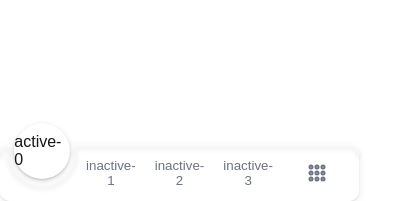
Test case: NotchNavbar — More card overflow › clicking More opens the card with exactly the 3 hidden tabs
The image size is (417, 201).
Click the tab named "More": (317,173) [282,145,351,200]
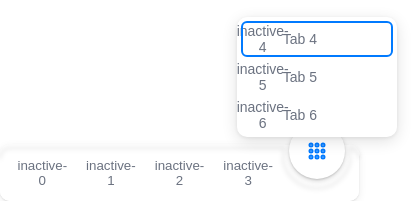
Expected: the menu is shown, [237,17,397,137]
Expected: the number of menu items is 3, [241,21,393,57]; [241,59,393,95]; [241,97,393,133]
Expected: the menu item "inactive-4 Tab 4" is shown, [241,21,393,57]
